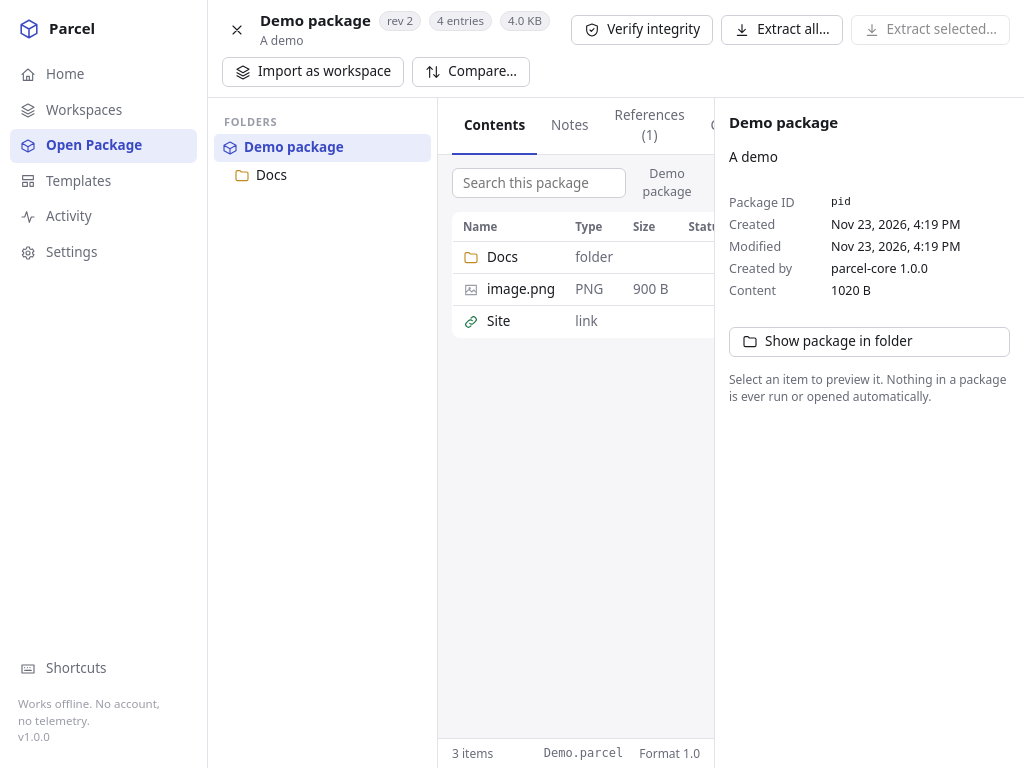
package explorer › searches package contents
Expected: the table named "Package entries" is shown, x1=452 y1=212 x2=714 y2=338
In the search field named "Search package": coordinates (539, 183) x1=452 y1=168 x2=626 y2=198, type "report"
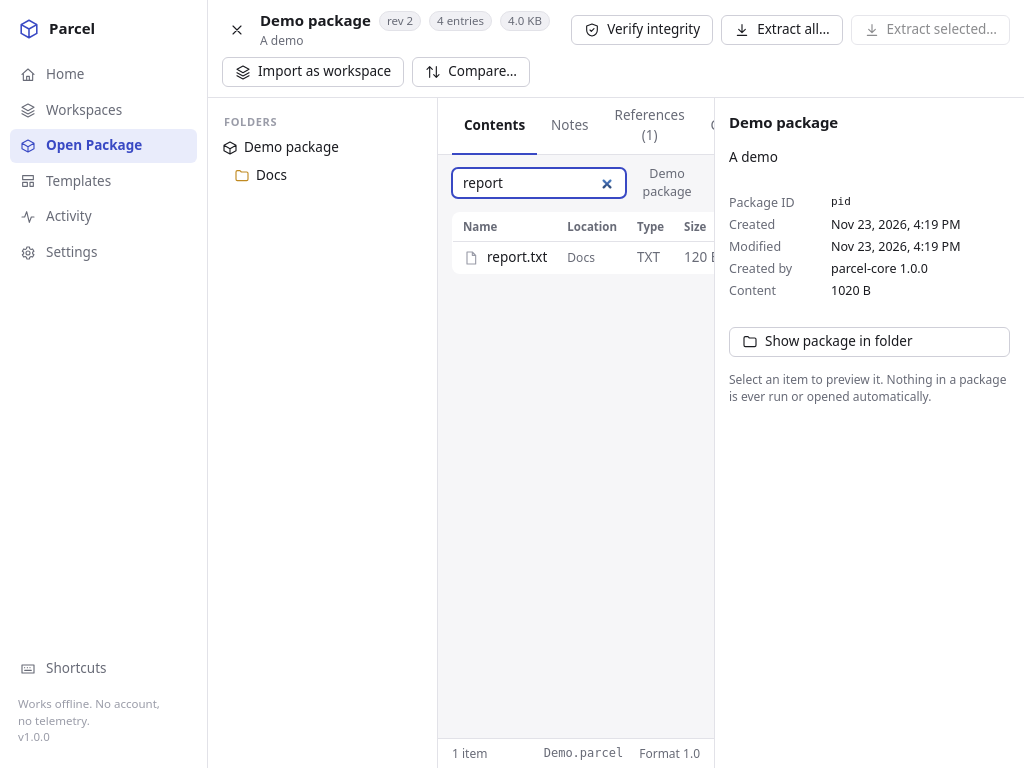
Now the text "report.txt" is shown, box x1=487 y1=248 x2=547 y2=268
Now the text "image.png" is gone
Replace the text in the search field named "Search package" with "nomatch": coordinates (539, 183) x1=452 y1=168 x2=626 y2=198
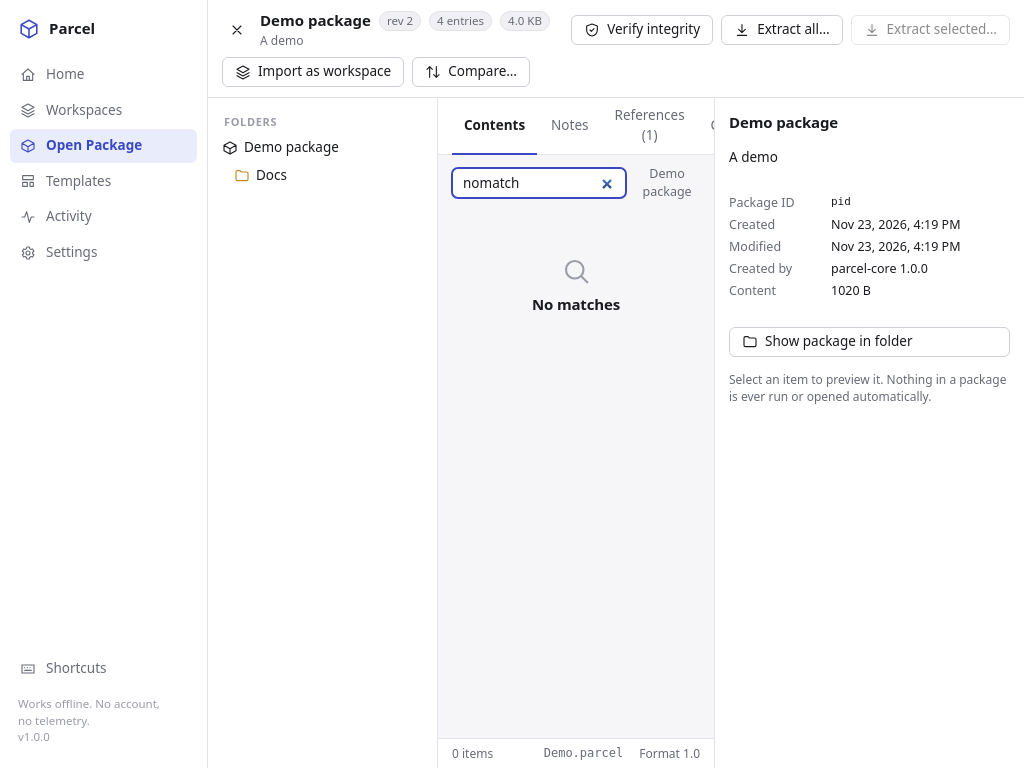
Now the heading "No matches" is shown, box x1=532 y1=294 x2=620 y2=315
